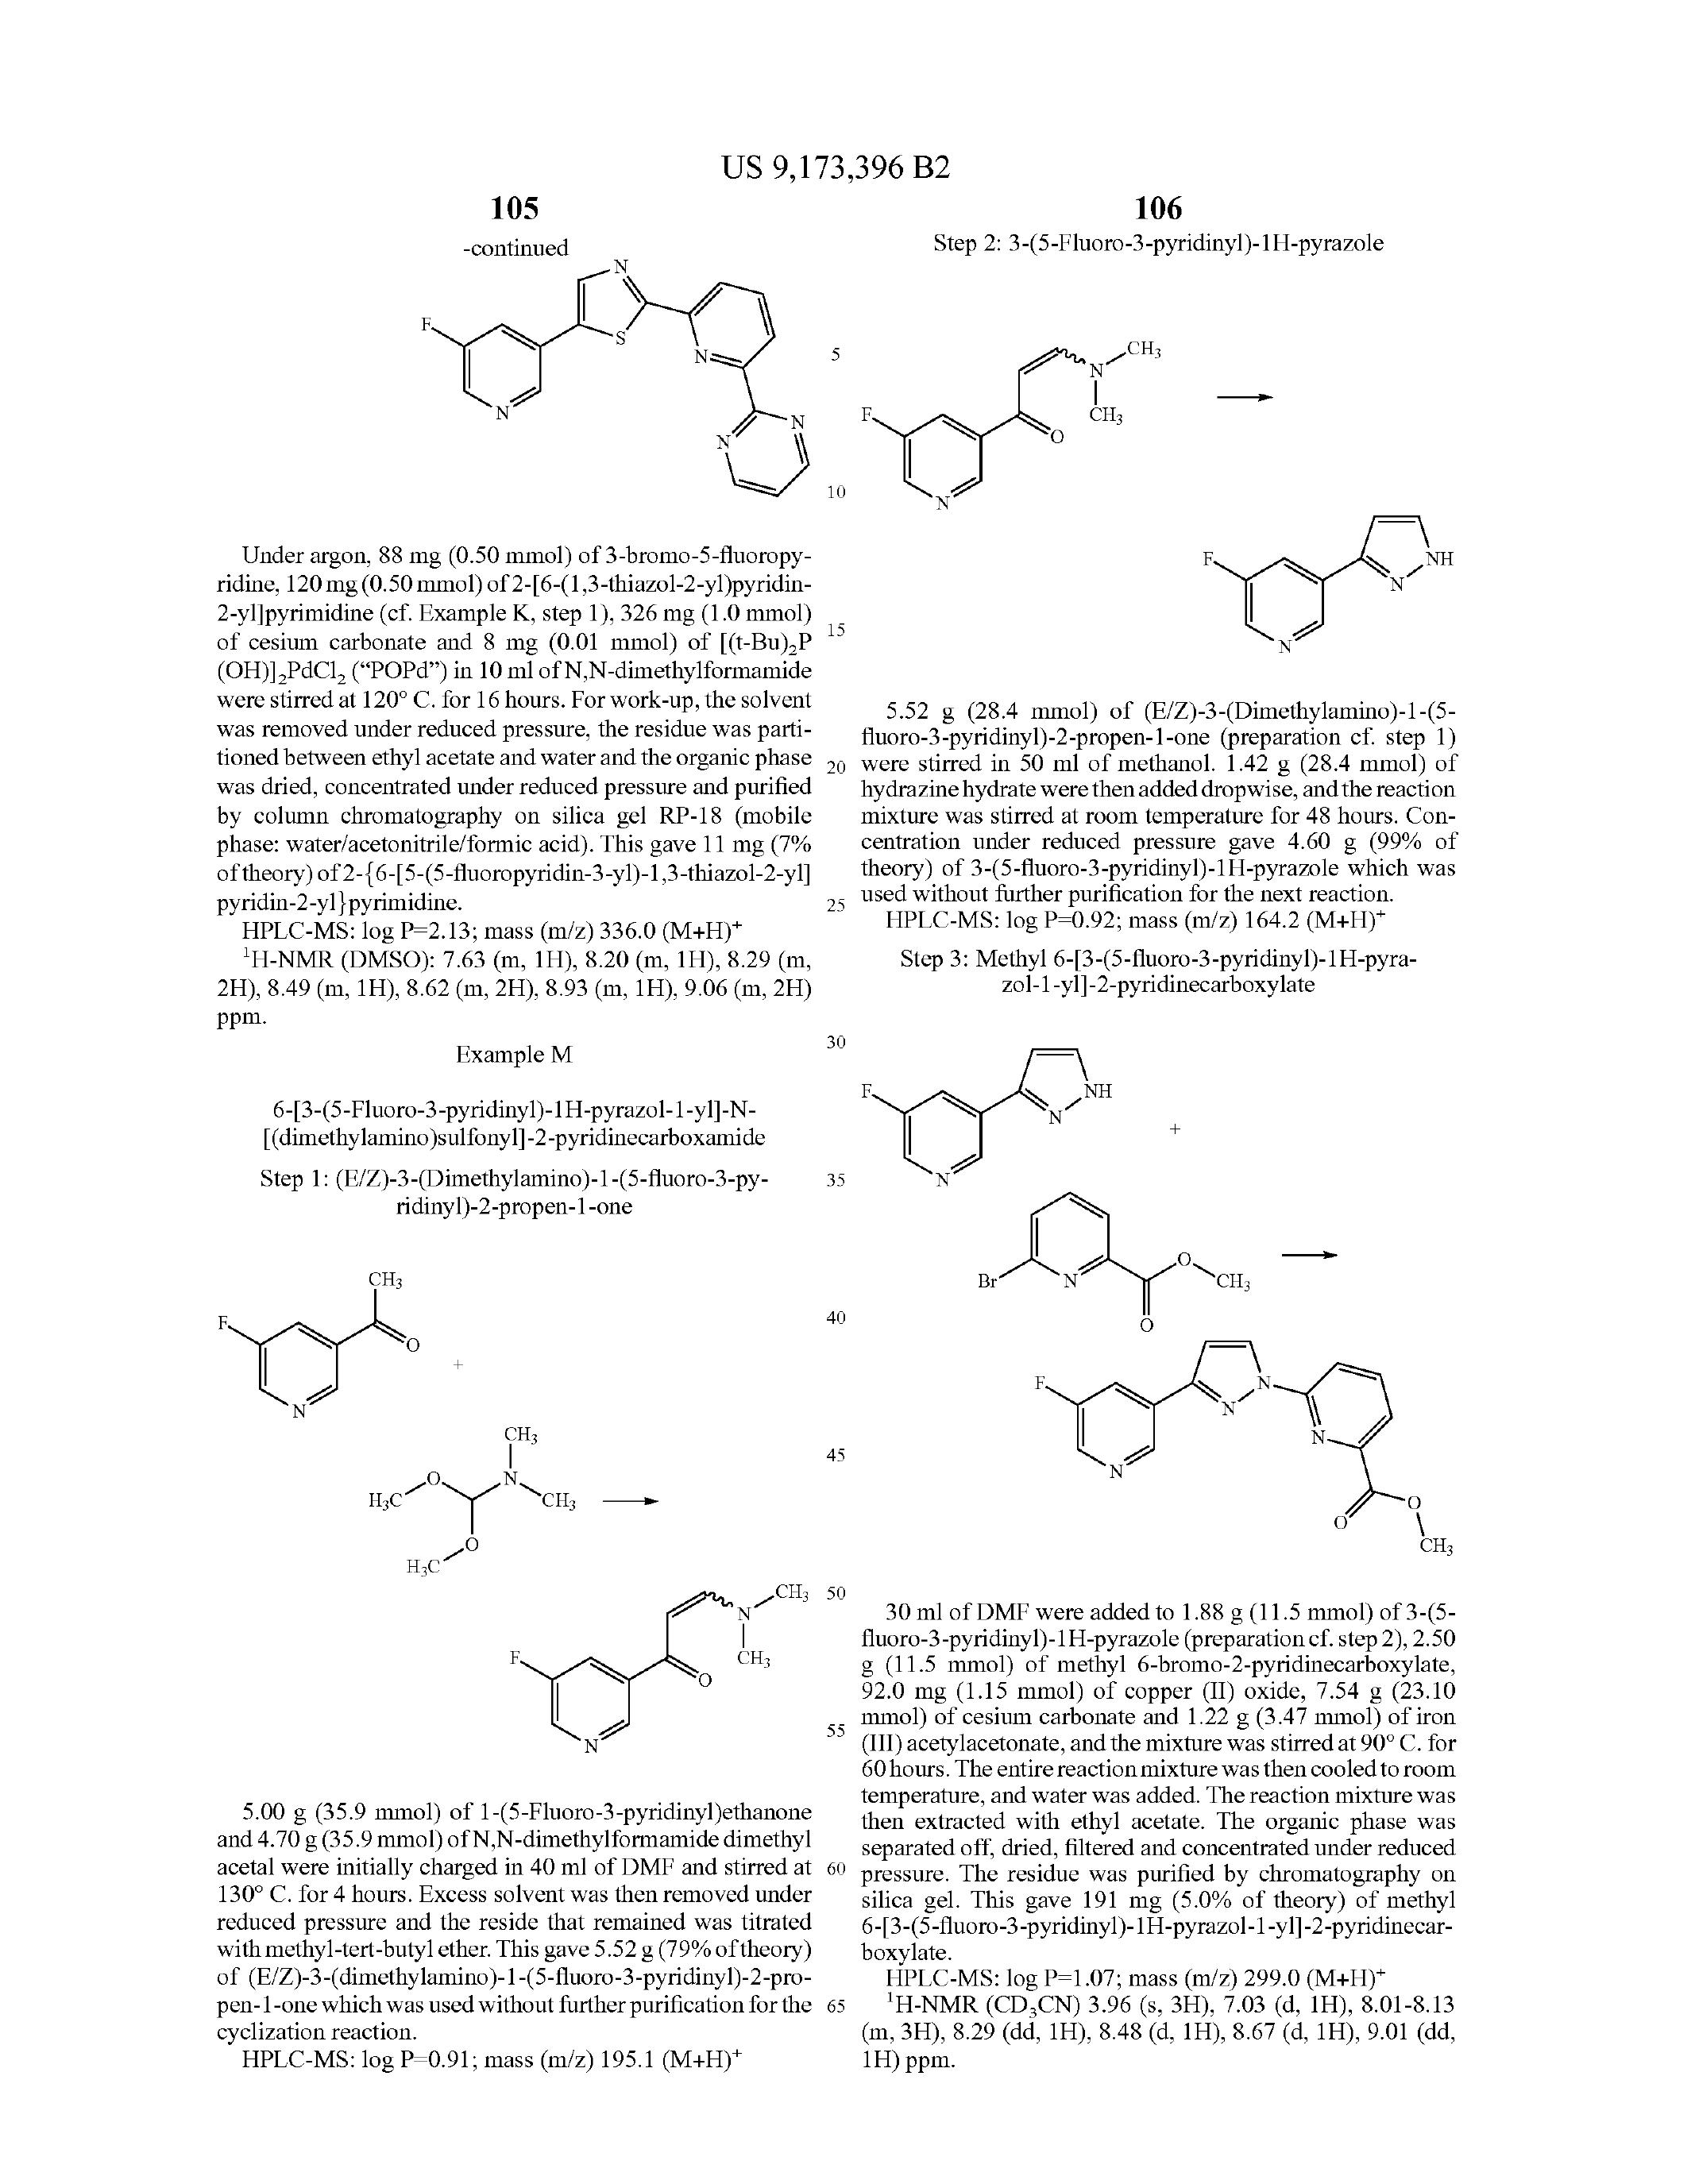reactions: (348, 225, 1450, 645)
